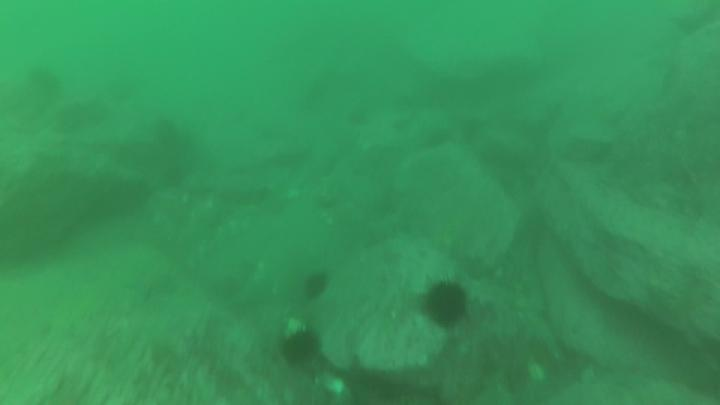echinus: (421, 280, 473, 332), (279, 325, 324, 371), (350, 374, 405, 405), (25, 65, 68, 100), (301, 268, 334, 301), (422, 124, 455, 153), (347, 105, 372, 130), (390, 115, 415, 135)
